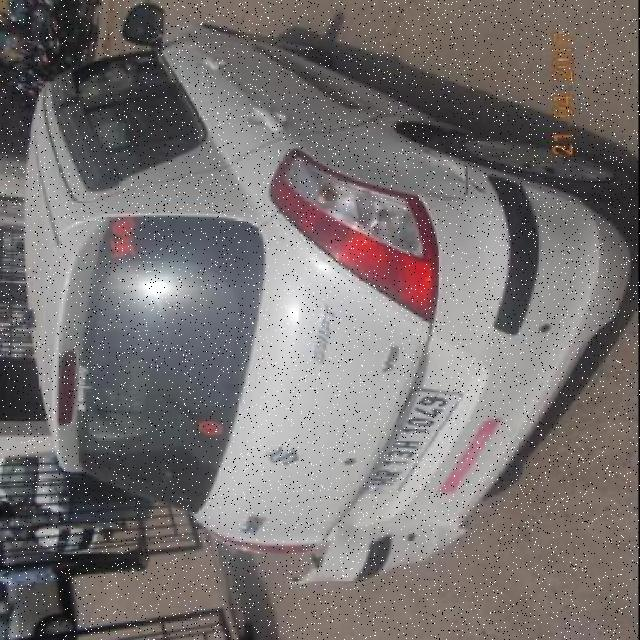damage: (289, 524, 473, 586), (423, 146, 492, 196)
